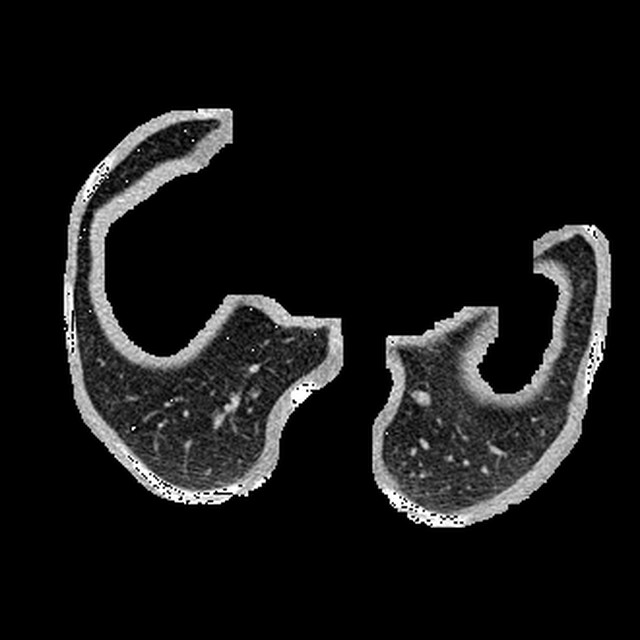PN: (413, 390, 429, 405)
